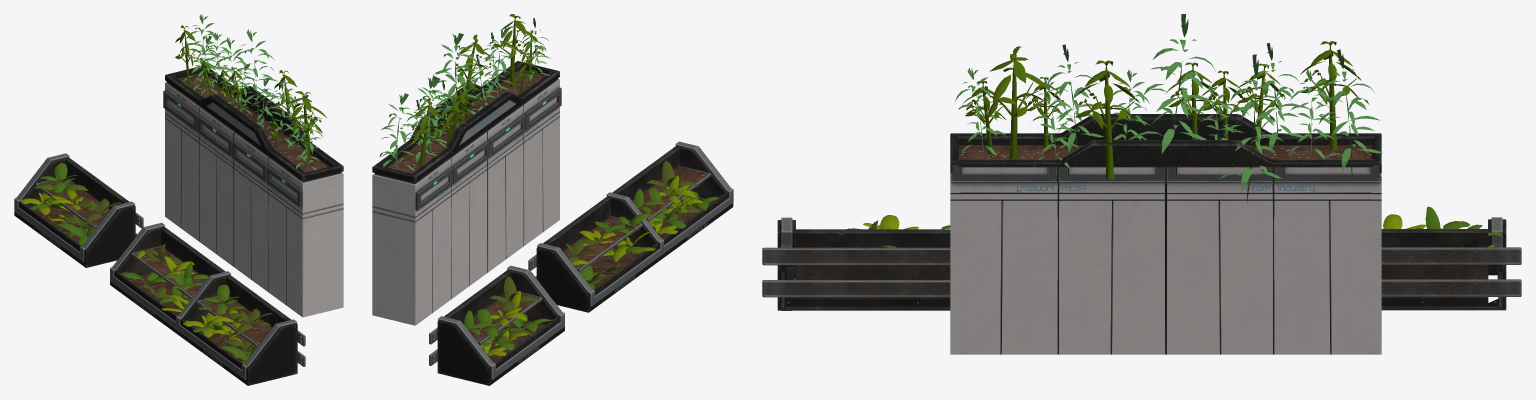
The model's file is sci-fi_plant_rack__pot_free.glb.
3 renders of one model, left to right at view 1: azimuth 30°, elevation 25°; view 2: azimuth 150°, elevation 25°; view 3: azimuth 270°, elevation 25°, orthographic. The views are drawn at different scales.
Parts seen in each view (by area): view 1: plantpot_base6; view 2: plantpot_base6; view 3: plantpot_base6.
Part boxes in pixels (x1,y1,x2,y2): plantpot_base6: (14,14,343,385); plantpot_base6: (372,14,733,385); plantpot_base6: (762,14,1521,354).
Bounding box in the file's own units: 1.38 × 1.84 × 3.52.
Materials: 7 (2 with a texture image).
